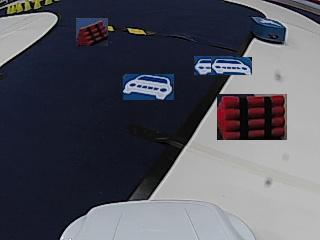prop: (252, 16, 286, 45)
